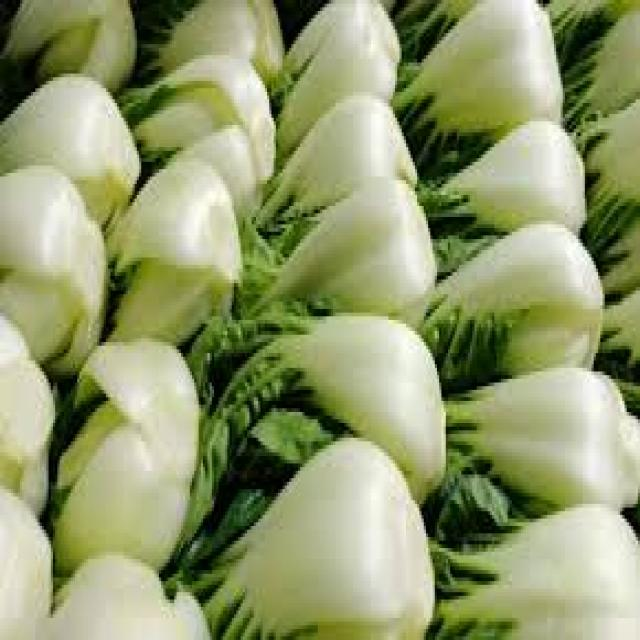organic waste: (188, 305, 442, 541), (164, 434, 432, 636), (44, 331, 199, 570), (432, 364, 638, 541), (420, 213, 602, 379), (234, 177, 437, 320), (432, 504, 638, 636), (102, 147, 240, 335), (117, 48, 271, 206), (415, 114, 583, 254), (0, 162, 104, 371), (393, 7, 560, 136), (0, 70, 137, 221), (261, 88, 417, 214), (272, 7, 402, 125), (44, 548, 210, 636), (0, 0, 132, 95), (132, 0, 282, 81), (0, 305, 53, 515), (569, 96, 638, 247), (558, 4, 638, 132), (0, 482, 49, 636), (582, 210, 638, 305), (384, 0, 470, 59), (598, 287, 638, 412), (541, 0, 620, 59), (415, 121, 479, 188)
